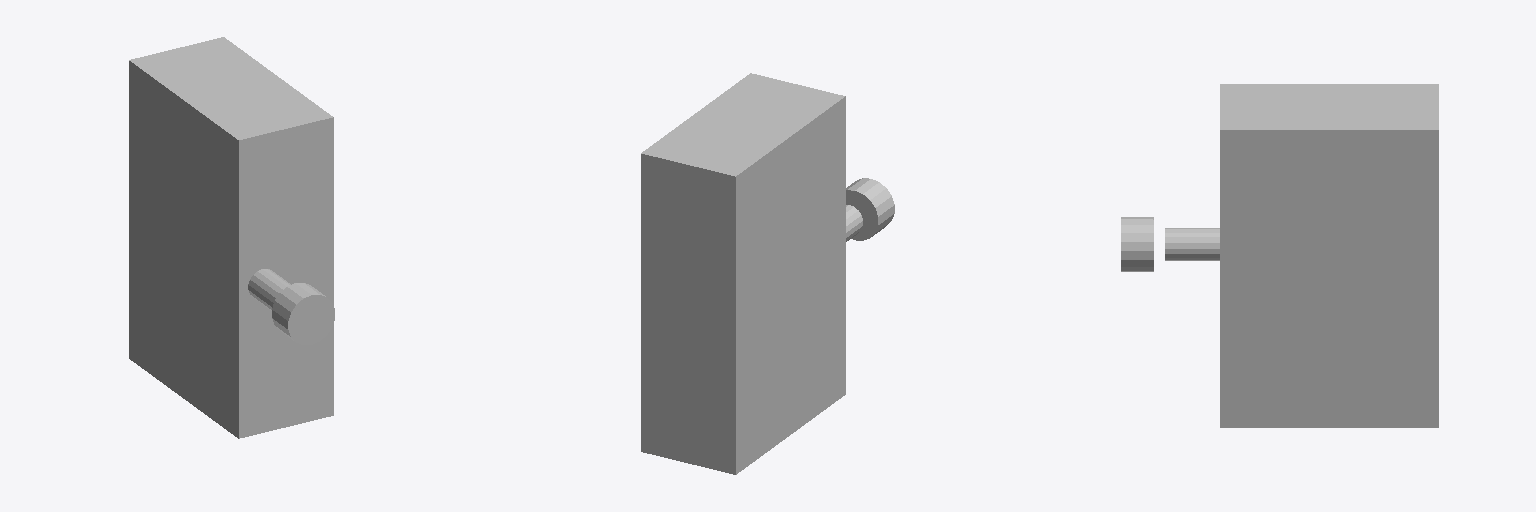
File: slider.obj
The picture shows the model from 3 angles: view 1: azimuth 30°, elevation 25°; view 2: azimuth 150°, elevation 25°; view 3: azimuth 270°, elevation 25°; orthographic projection.
Parts seen in each view (by area): view 1: VBox054, VCyl027, VCyl026; view 2: VBox054, VCyl027; view 3: VBox054, VCyl026, VCyl027.
Part boxes in pixels (x1,y1,x2,y2): VBox054: (129,37,333,438); VCyl027: (272,283,334,344); VCyl026: (248,269,290,310); VBox054: (641,73,845,474); VCyl027: (846,178,894,240); VBox054: (1220,84,1438,427); VCyl026: (1165,228,1219,260); VCyl027: (1121,217,1153,271).
Bounding box in the file's own units: 10 × 30 × 29.